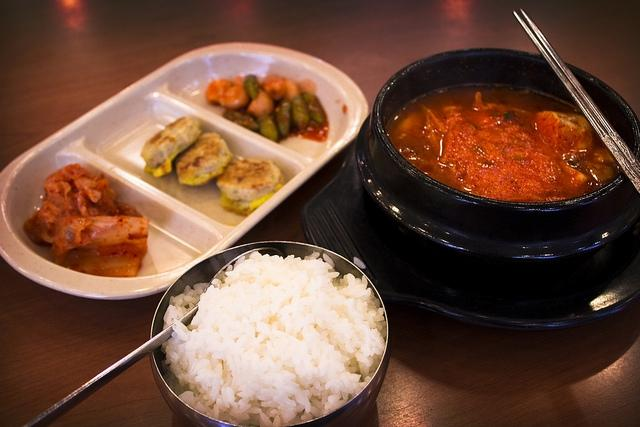carrot: (247, 87, 275, 119), (206, 79, 234, 107), (221, 86, 250, 110), (264, 74, 287, 101), (280, 77, 302, 103), (298, 78, 318, 96), (231, 75, 244, 87), (257, 76, 267, 89)
